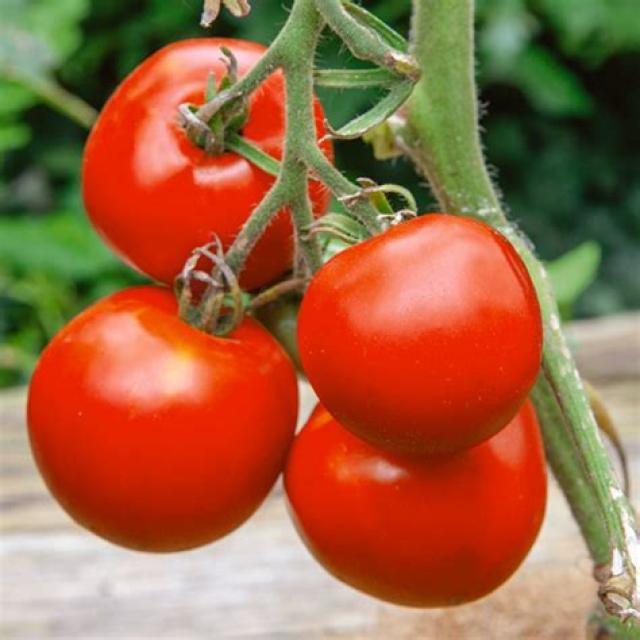Tomato: (25, 287, 299, 556), (296, 214, 546, 462), (282, 397, 549, 612), (80, 37, 276, 288)
